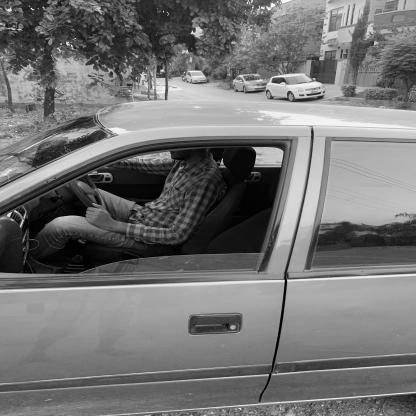no-seatbelt: (154, 151, 206, 222)
